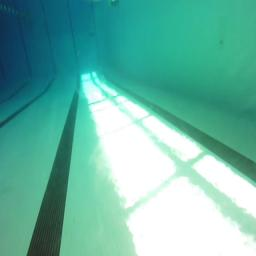Full: (110, 0, 119, 6)
